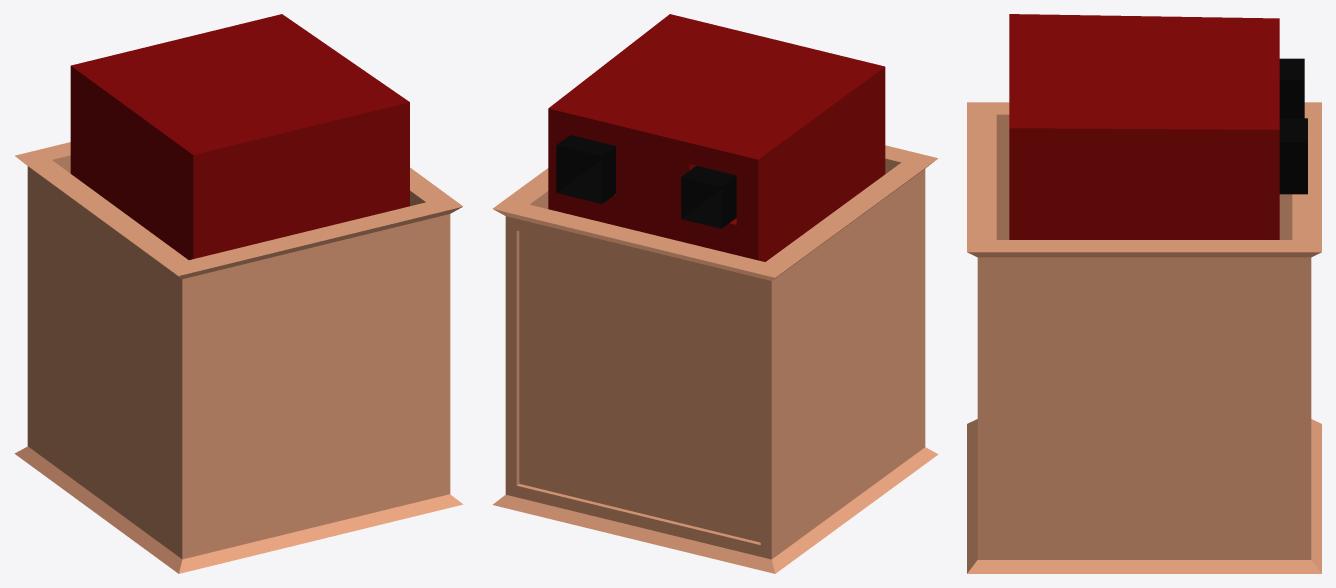
Rendered from jack.fbx.
3 renders of one model, left to right at view 1: azimuth 30°, elevation 25°; view 2: azimuth 150°, elevation 25°; view 3: azimuth 270°, elevation 25°, orthographic. The views are drawn at different scales.
Visible parts, largest first — view 1: Cube, Cube.001; view 2: Cube, Cube.001; view 3: Cube, Cube.001.
Part boxes in pixels (x1,y1,x2,y2): Cube: (14,142,463,573); Cube.001: (70,14,409,259); Cube: (492,145,938,573); Cube.001: (548,14,885,261); Cube: (967,102,1321,573); Cube.001: (1009,14,1307,239).
Bounding box in the file's own units: 200 × 266 × 200.
